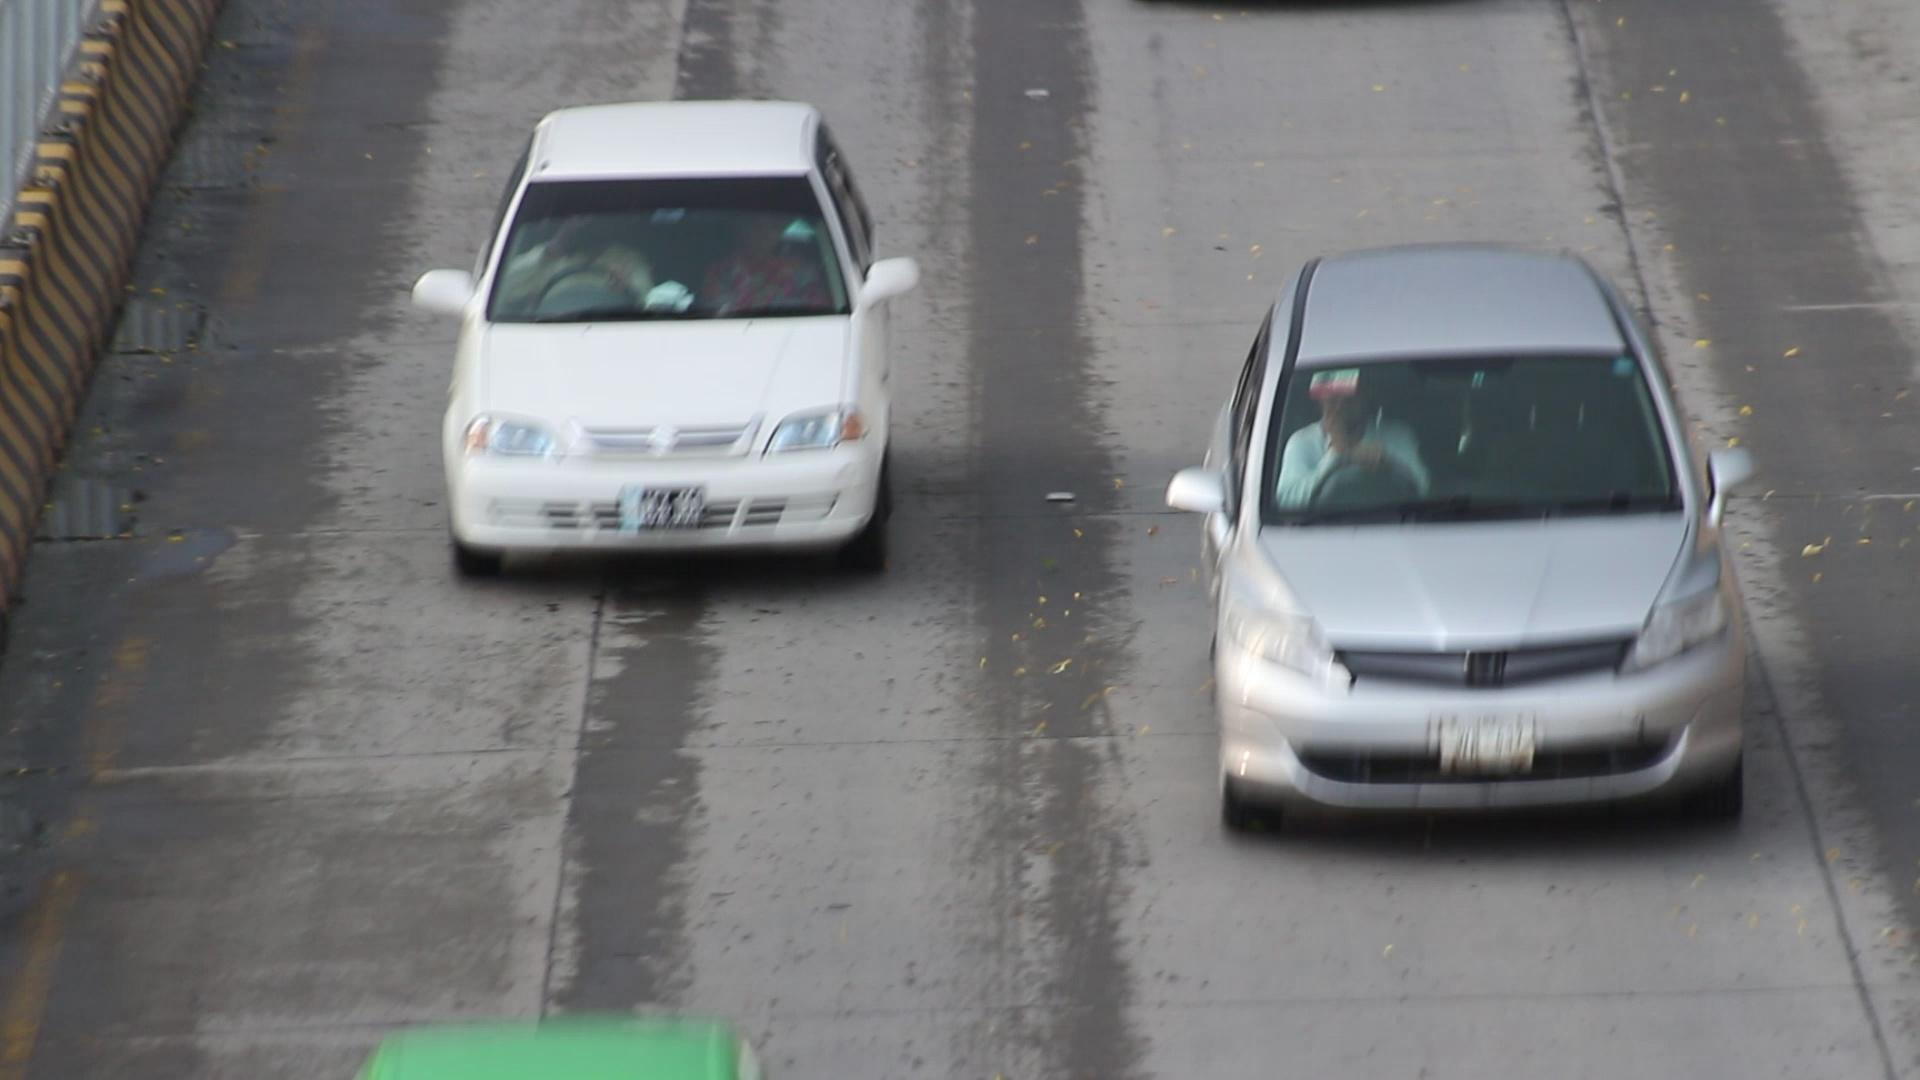windshield: (1257, 340, 1704, 530), (477, 164, 861, 334)
